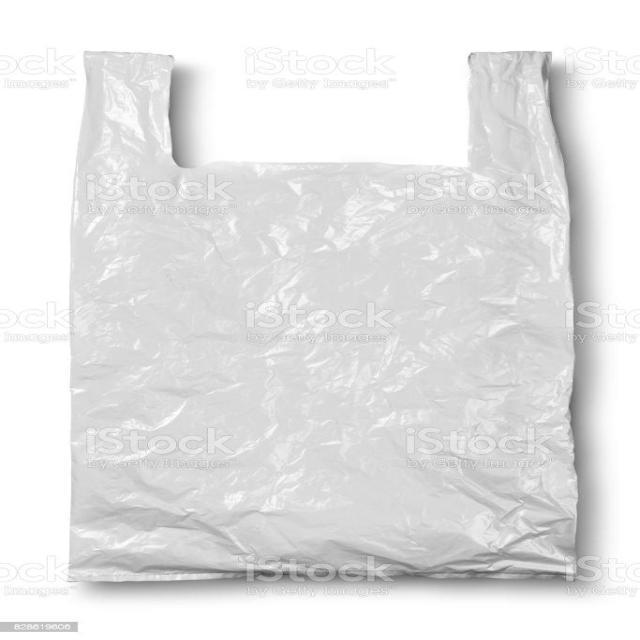Plastic_Bag: (56, 34, 591, 587)
